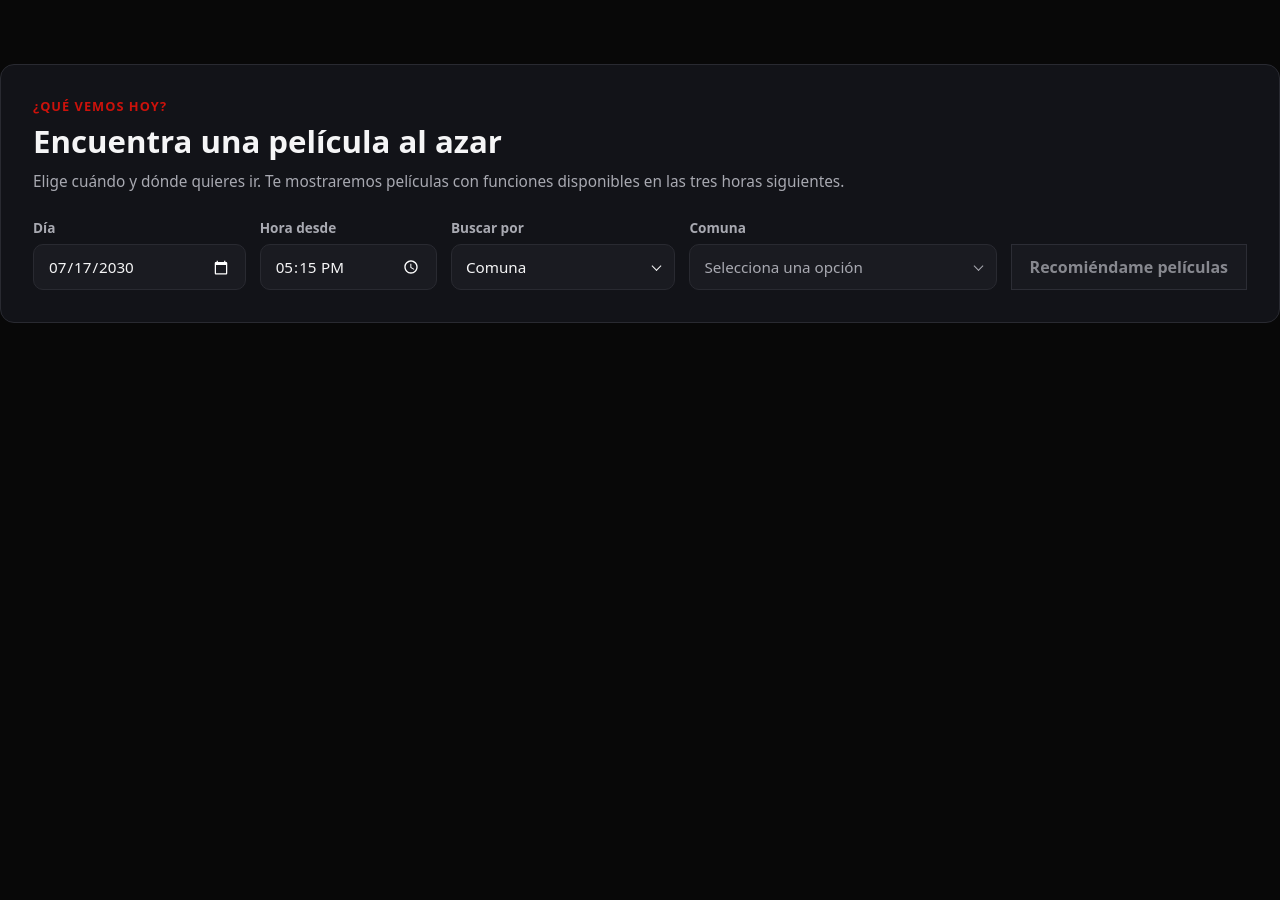
Test case: RecomendadorPeliculas › muestra el error de consulta y habilita el botón para reintentar
Click the button with aria-label "seleccionar comuna: selecciona una opción": (843, 267) [689, 244, 997, 290]
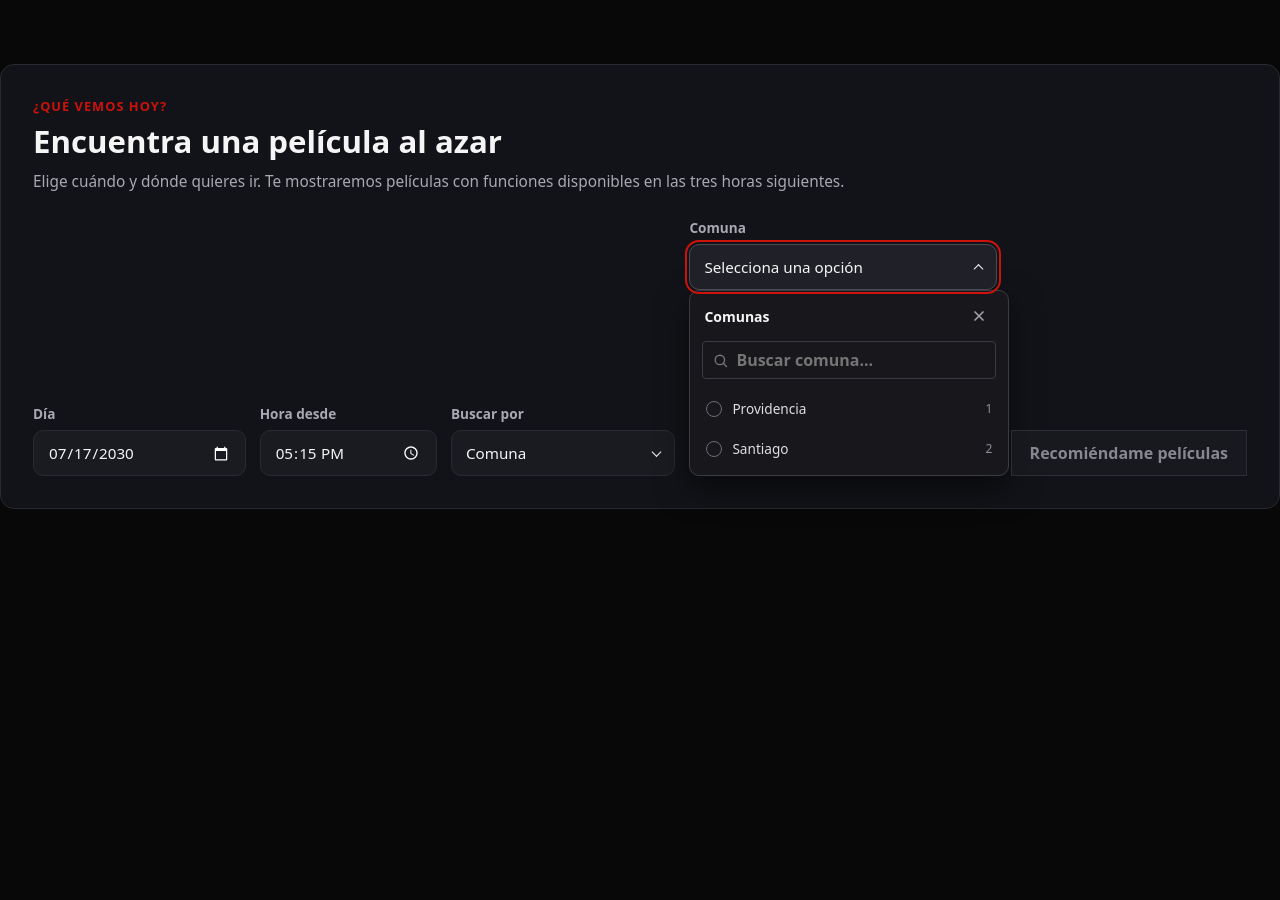
Click the option "Santiago 2": (760, 449) [696, 429, 1002, 469]
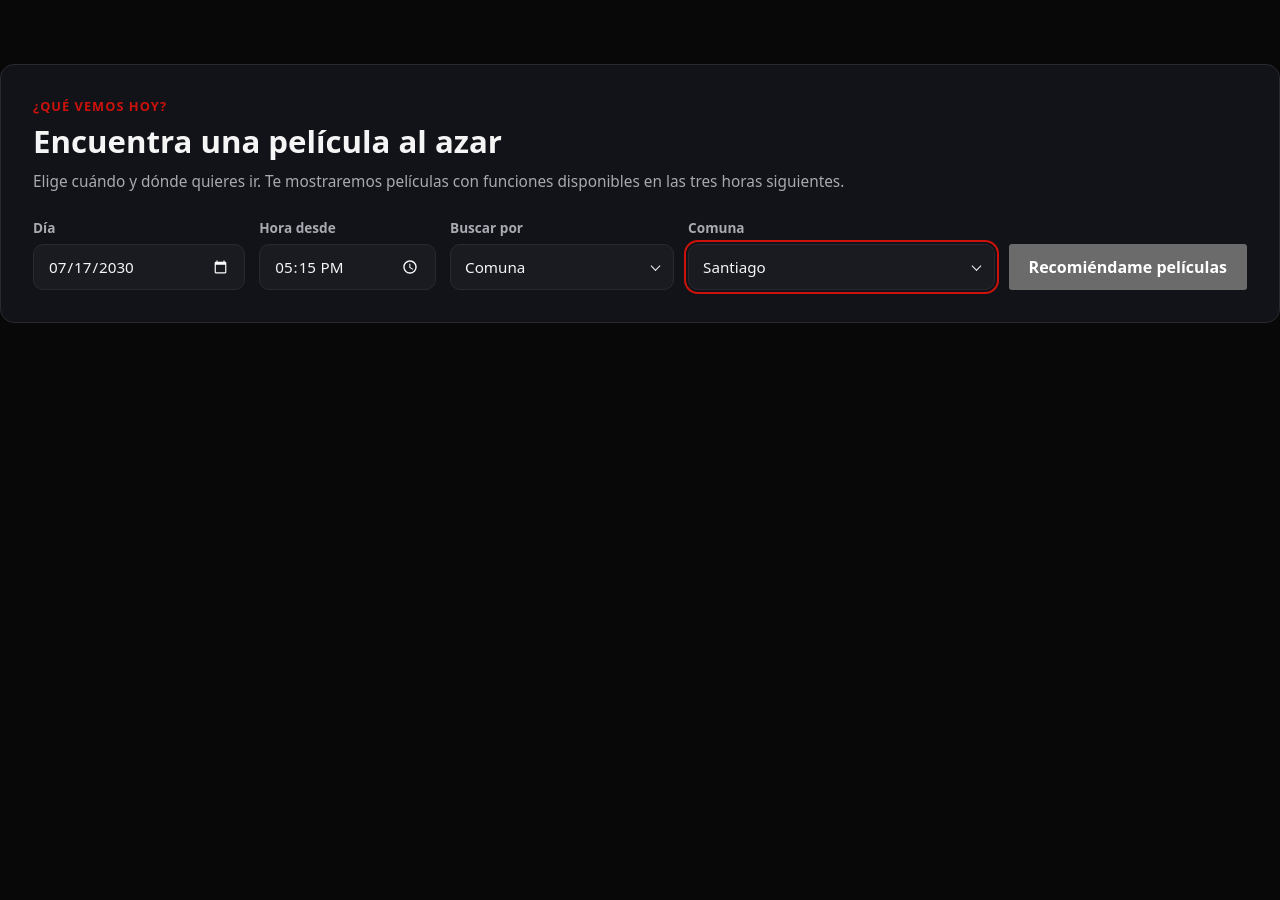
Click the button "Recomiéndame películas": (1128, 267) [1009, 244, 1247, 290]
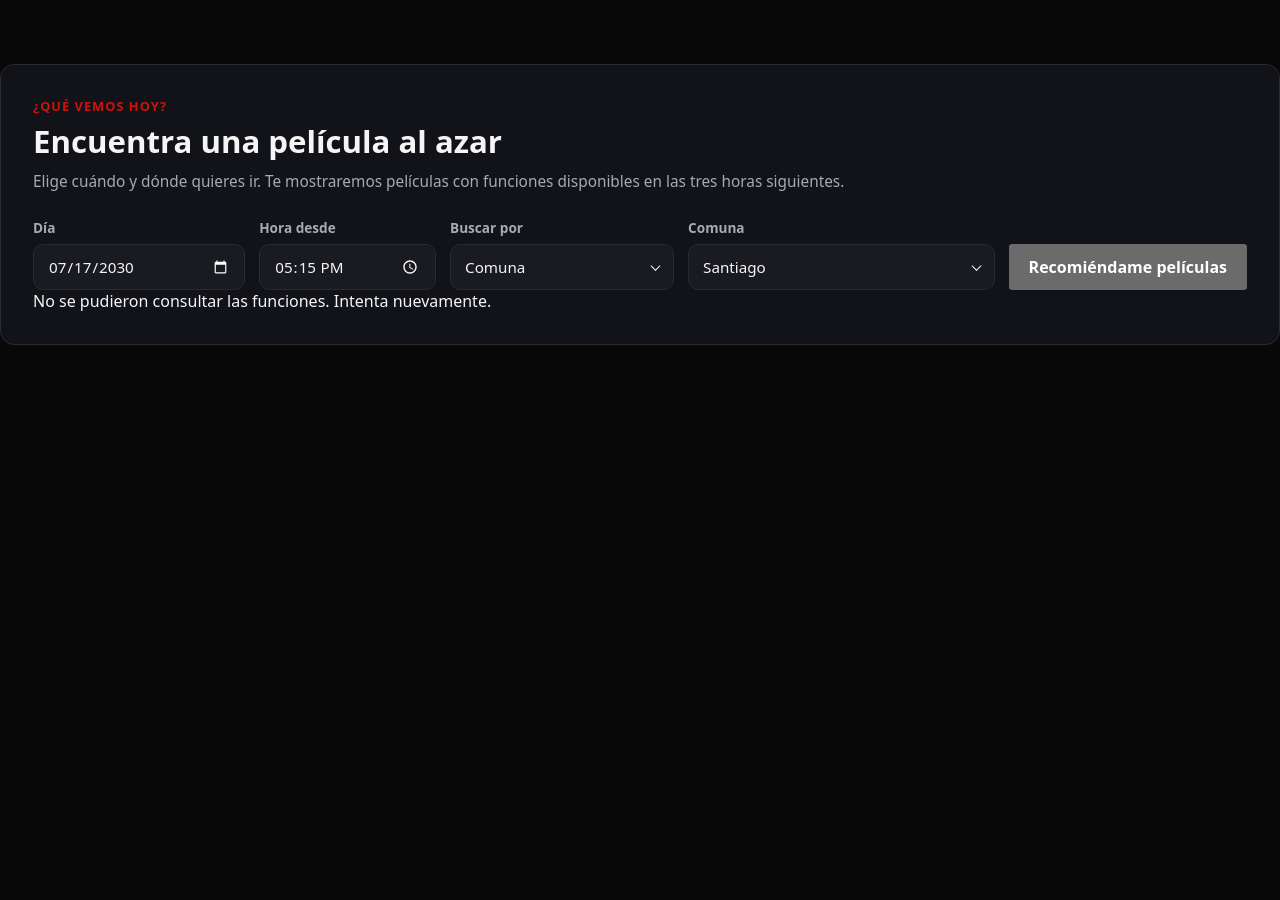
Expected: the button "Recomiéndame películas" is enabled, [1009, 244, 1247, 290]
Expected: the message reads "No se pudieron consultar las funciones. Intenta nuevamente.", [33, 290, 491, 312]
